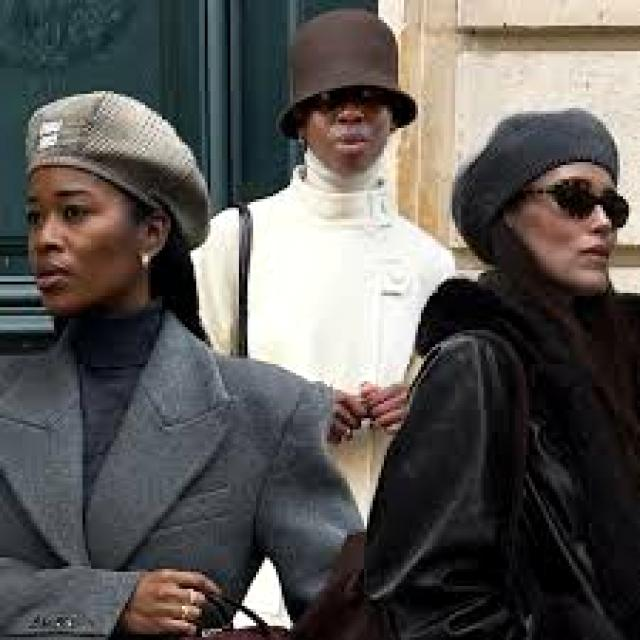face: (26, 168, 164, 315), (504, 163, 617, 295), (299, 89, 392, 176)
hat: (26, 92, 210, 247), (453, 109, 617, 264), (279, 9, 418, 139)
